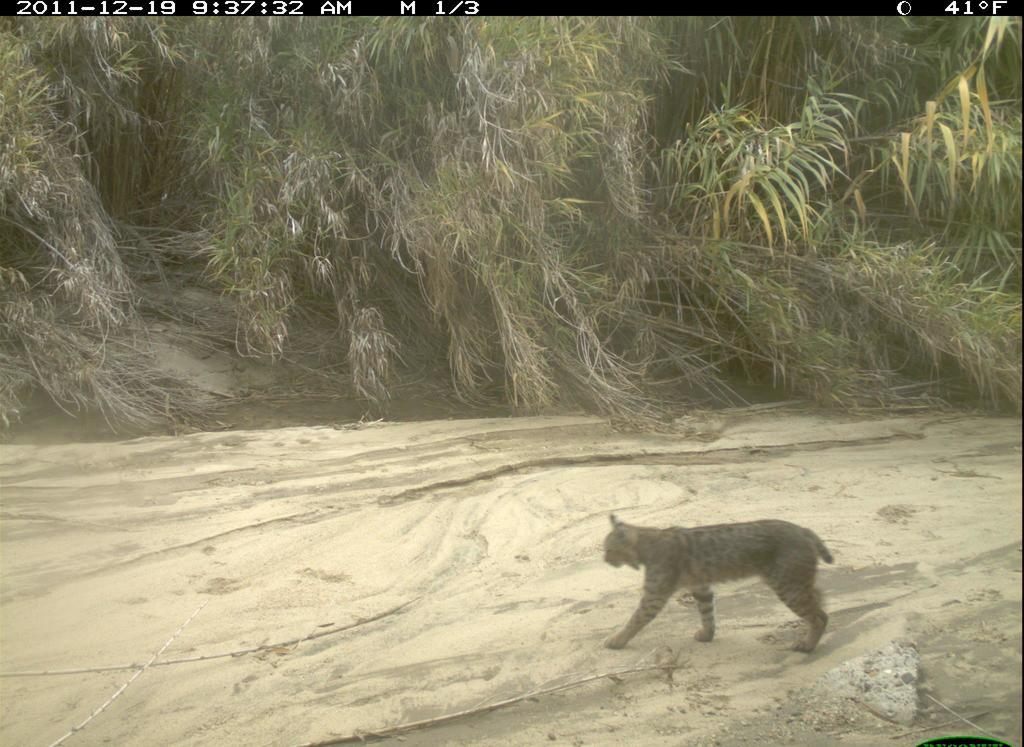bobcat: (587, 500, 836, 684)
